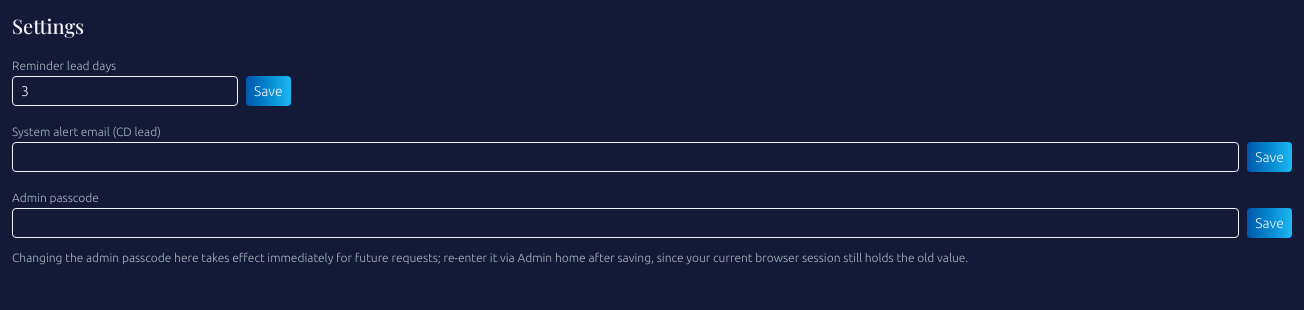
Test case: SettingsPage › saves systemAlertEmail and shows a confirmation
This screenshot has width=1304, height=310.
Type "lead@capgemini.com" into the 2nd field at point(626, 157), box [12,142,1239,172]
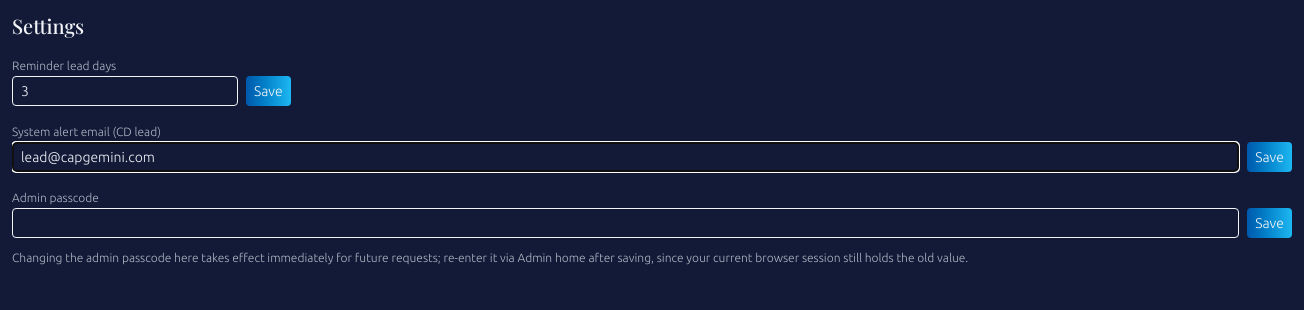
Click the 2nd button "Save" at point(1270, 157), box [1247,142,1292,172]
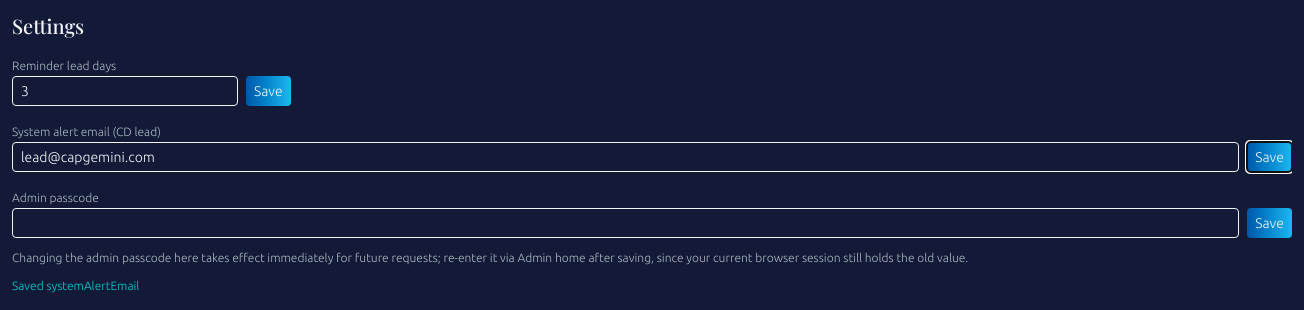
Result: the text "Saved systemAlertEmail" is shown at [12,279,139,292]
